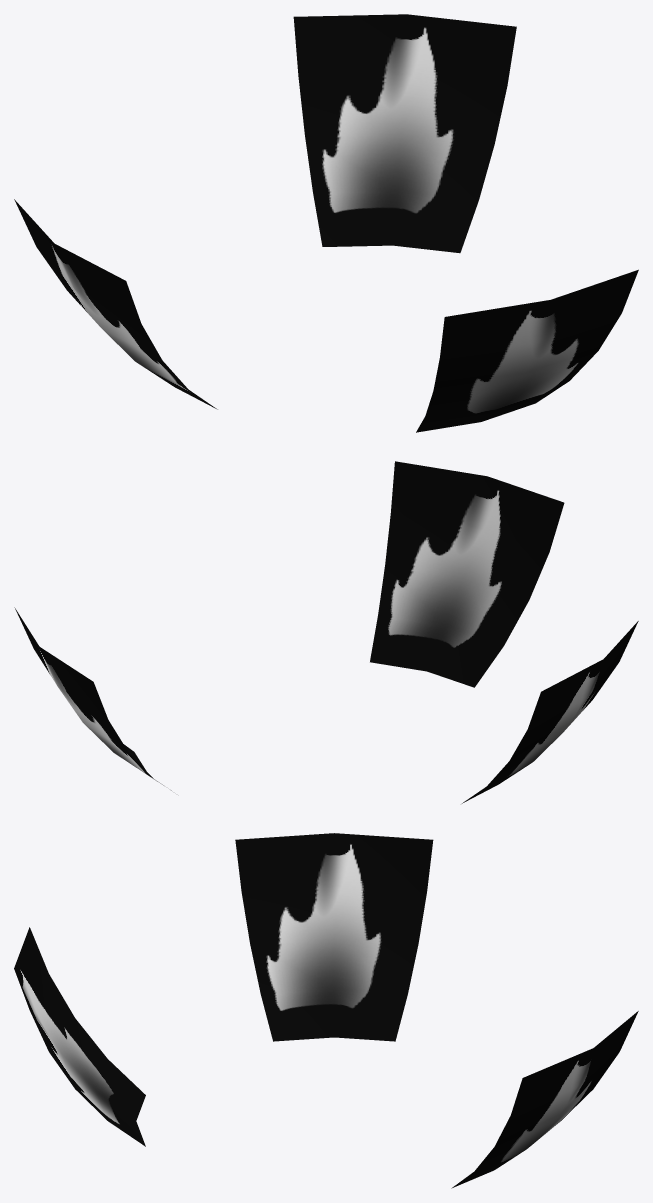
File: SmokeMesh.fbx
3 renders of one model, top to bottom at view 1: azimuth 30°, elevation 25°; view 2: azimuth 150°, elevation 25°; view 3: azimuth 270°, elevation 25°, orthographic. The views are drawn at different scales.
Parts seen in each view (by area): view 1: SmokeMesh; view 2: SmokeMesh; view 3: SmokeMesh.
Part boxes in pixels (x1=…): SmokeMesh: x1=14, y1=14, x2=638, y2=432; SmokeMesh: x1=14, y1=461, x2=638, y2=803; SmokeMesh: x1=14, y1=833, x2=638, y2=1188.
Size of the model in its own units: 1.72 by 0.5 by 1.86.
Materials: 1 (1 with a texture image).
